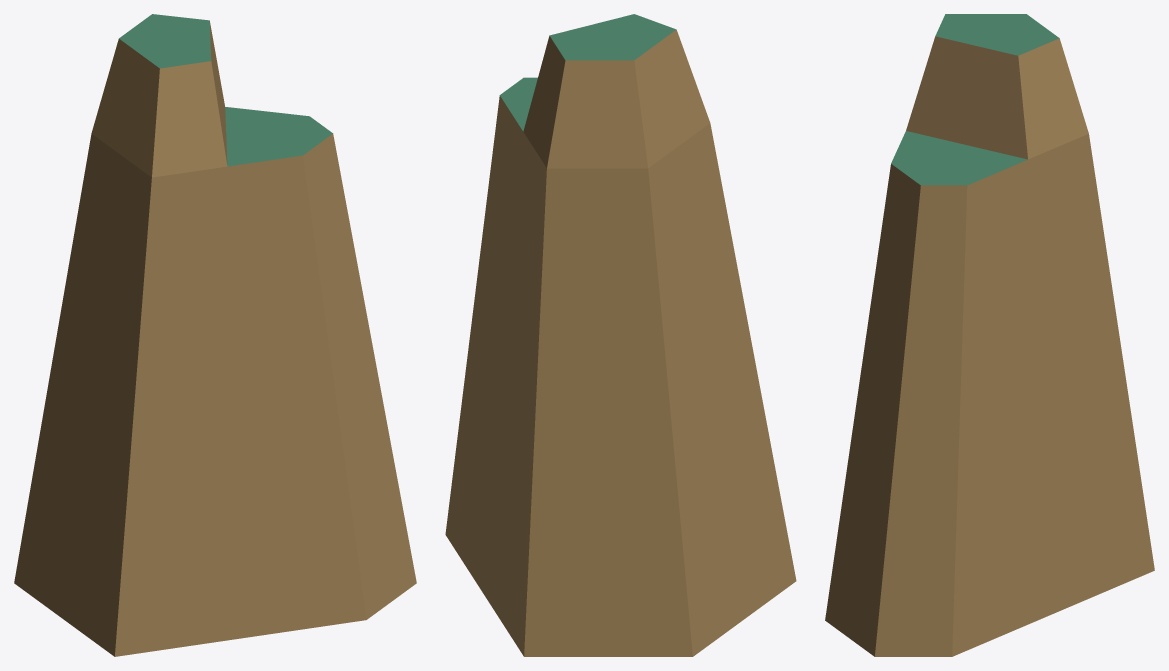
Rendered from naturePack_036.obj.
The picture shows the model from 3 angles, left to right: view 1: azimuth 30°, elevation 25°; view 2: azimuth 150°, elevation 25°; view 3: azimuth 270°, elevation 25°; orthographic projection. The views are drawn at different scales.
Visible parts, largest first — view 1: Mesh1_Group1_Model.025; view 2: Mesh1_Group1_Model.025; view 3: Mesh1_Group1_Model.025.
Part boxes in pixels (left/top/right/bottom): Mesh1_Group1_Model.025: left=14, top=14, right=416, bottom=656; Mesh1_Group1_Model.025: left=445, top=14, right=796, bottom=656; Mesh1_Group1_Model.025: left=825, top=14, right=1154, bottom=656.
Size of the model in its own units: 1.26 by 2.17 by 1.21.
